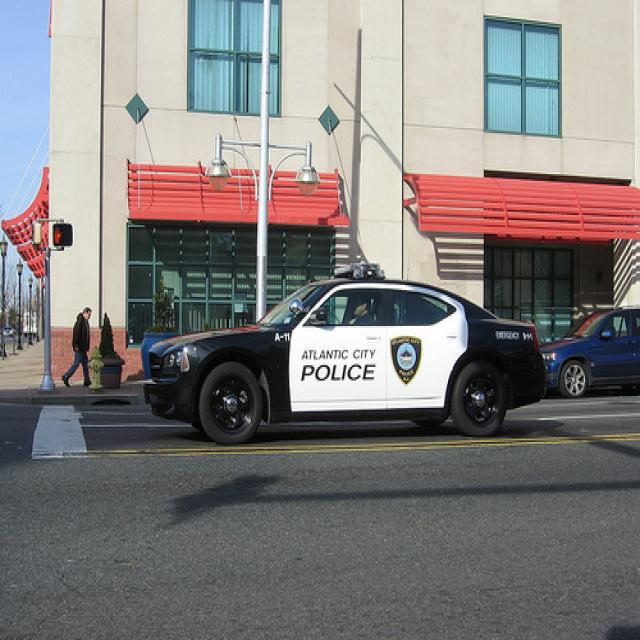Car: (140, 264, 553, 448), (529, 298, 640, 421)
